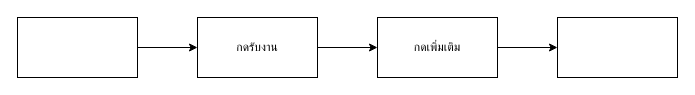
The diagram is 695 pixels wide and 95 high, and some of its shapes have lost their labels. The shapes that lost their labels are listed below. From the top down, each one's box as (x1, y1, x2, y2) in pixels, then its label:
(16, 16, 138, 78): ยกเลิกงาน
(556, 16, 678, 78): กดยกเลิกงาน
